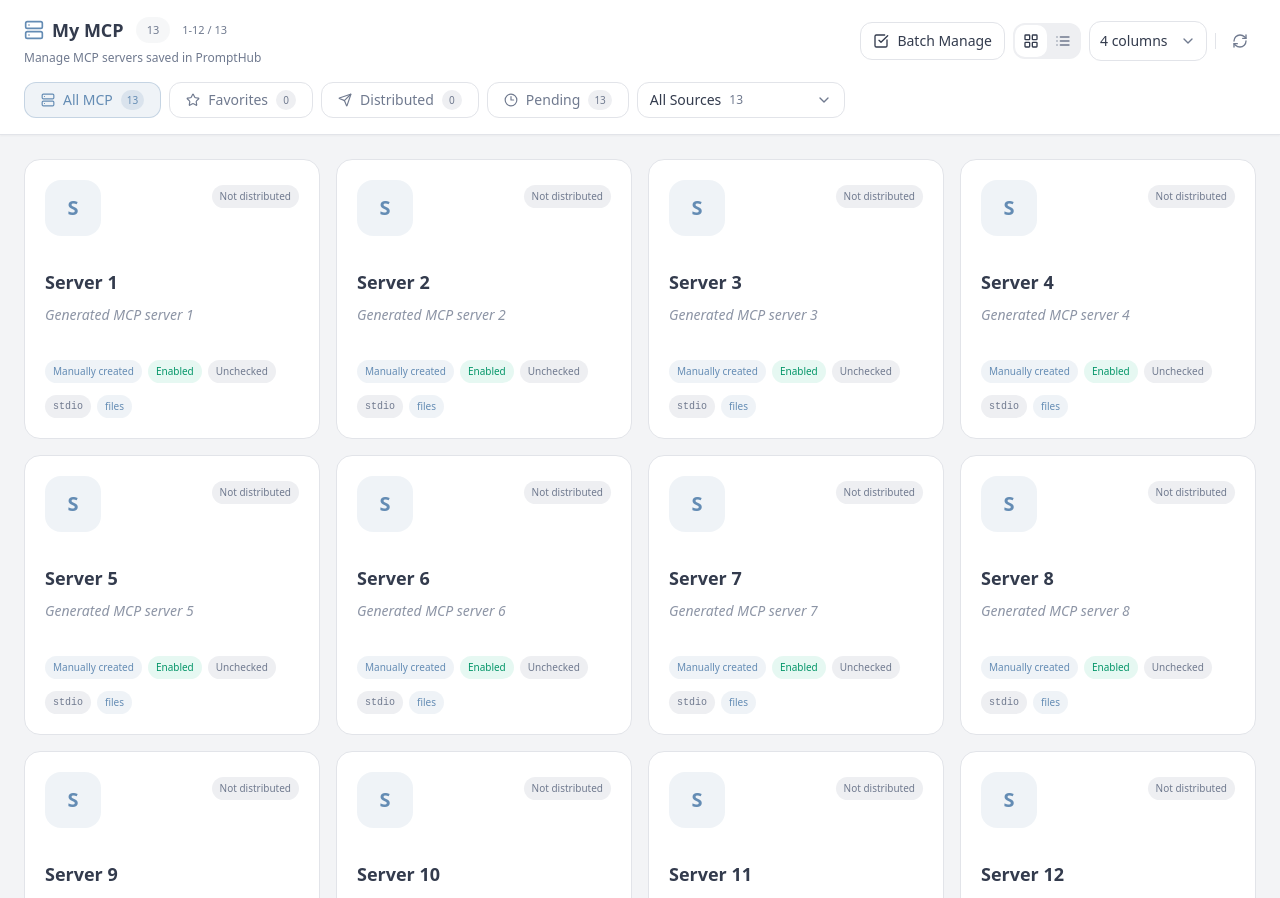
McpManager › shows Skill-style My MCP management controls, list view, and pagination
Check: the heading "Server 1" is shown, box left=45, top=270, right=118, bottom=294
Check: the button "Batch Manage" is shown, box left=860, top=22, right=1005, bottom=60
Click the button named "List View": click(1063, 41) left=1047, top=25, right=1079, bottom=57
(page scrolled)
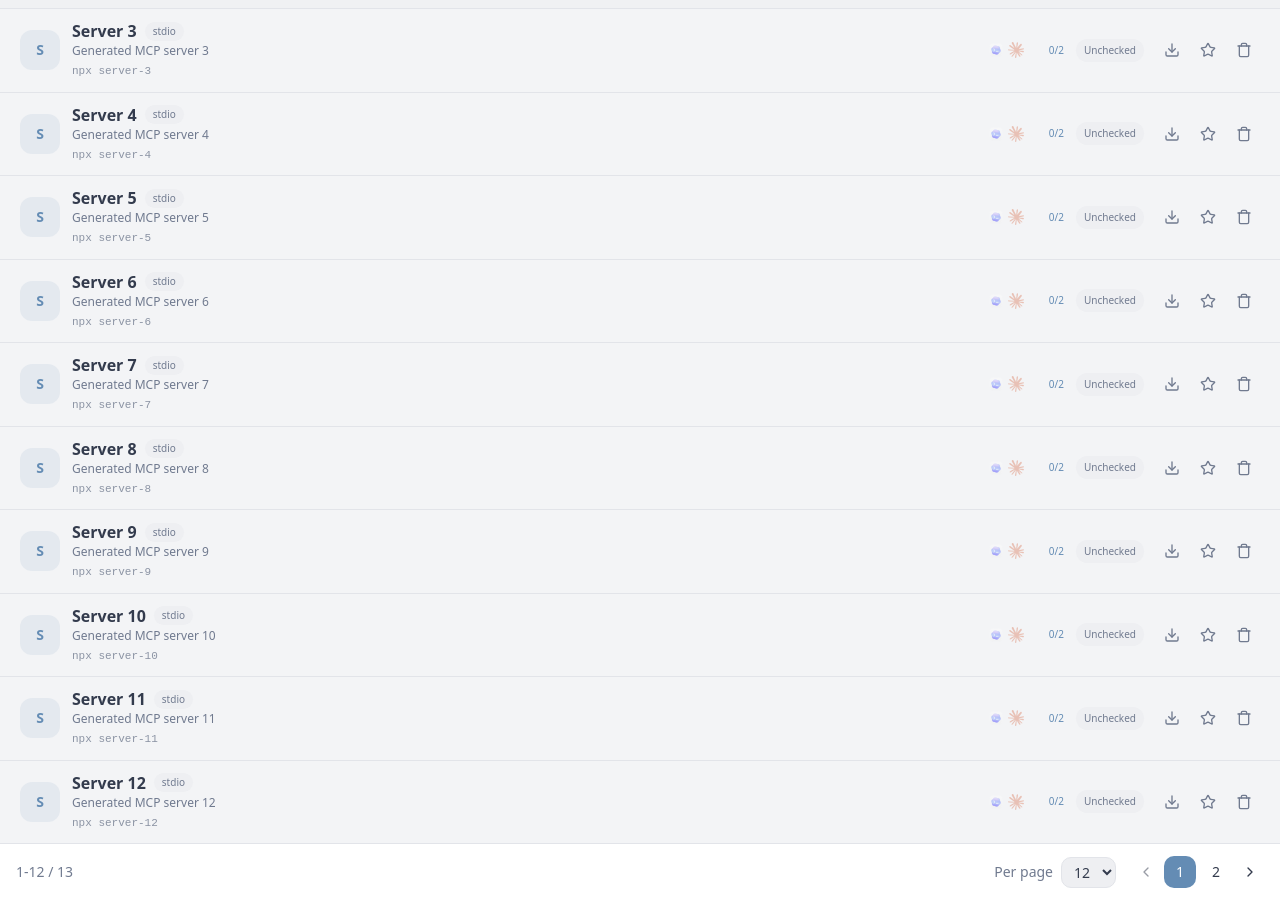
Click the button named "Next": click(1250, 872) left=1236, top=858, right=1264, bottom=886
(page scrolled)
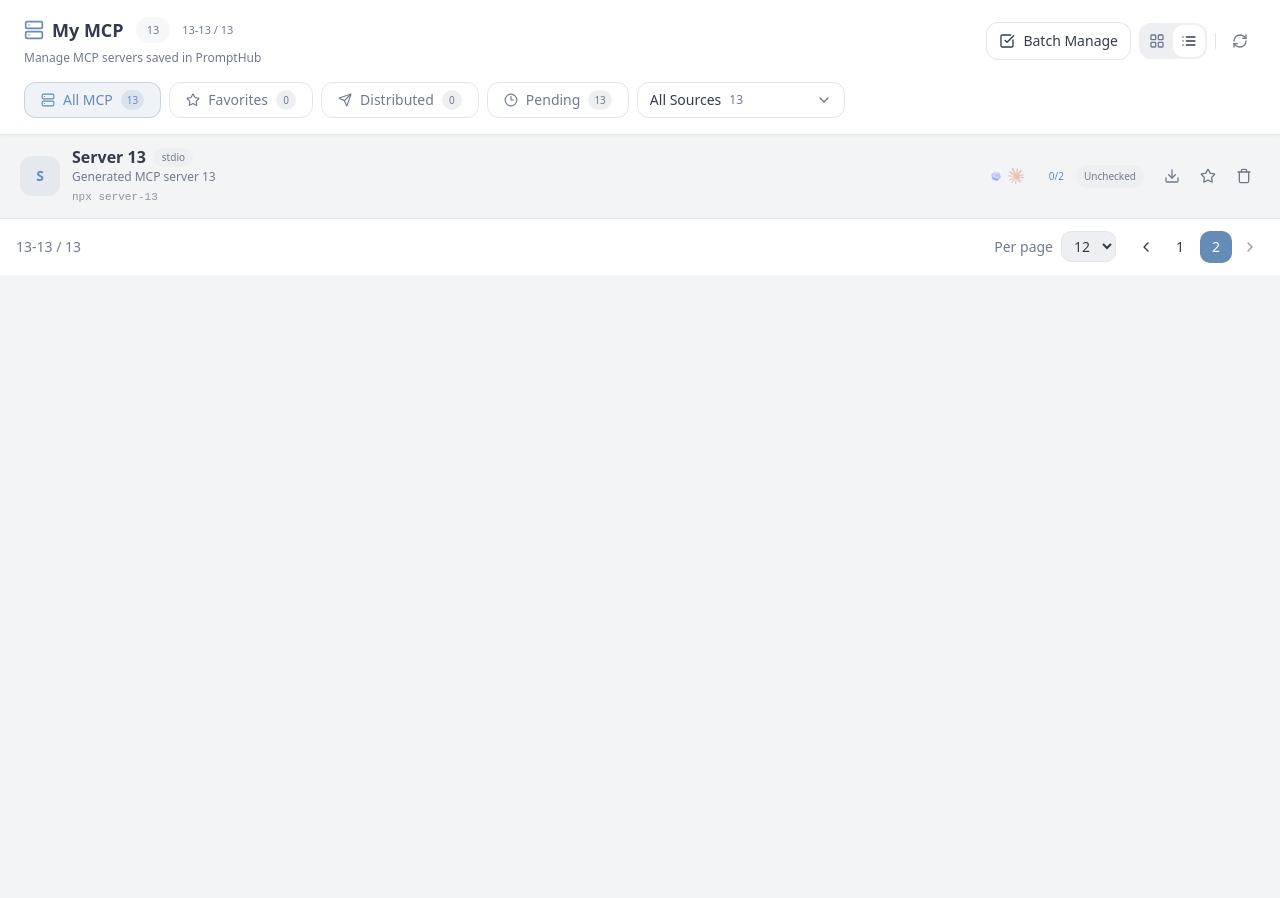
Check: the heading "Server 13" is shown, box left=72, top=147, right=146, bottom=167
